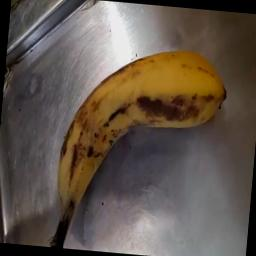Banana Overripe: (33, 41, 256, 256)
